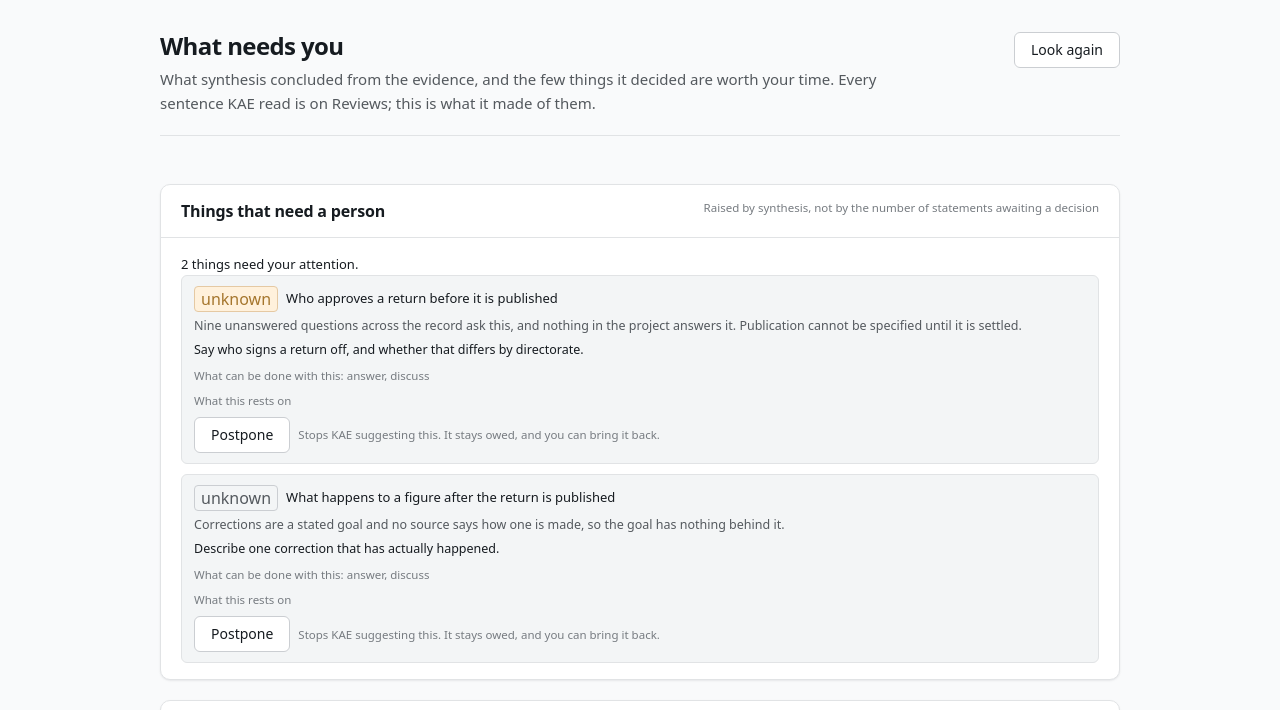
Test: an item can say what it rests on › answers with the sentences KAE read, not with the identifiers of rows
Click the 1st heading "What this rests on". click: (243, 400)
box: [194,393,291,408]
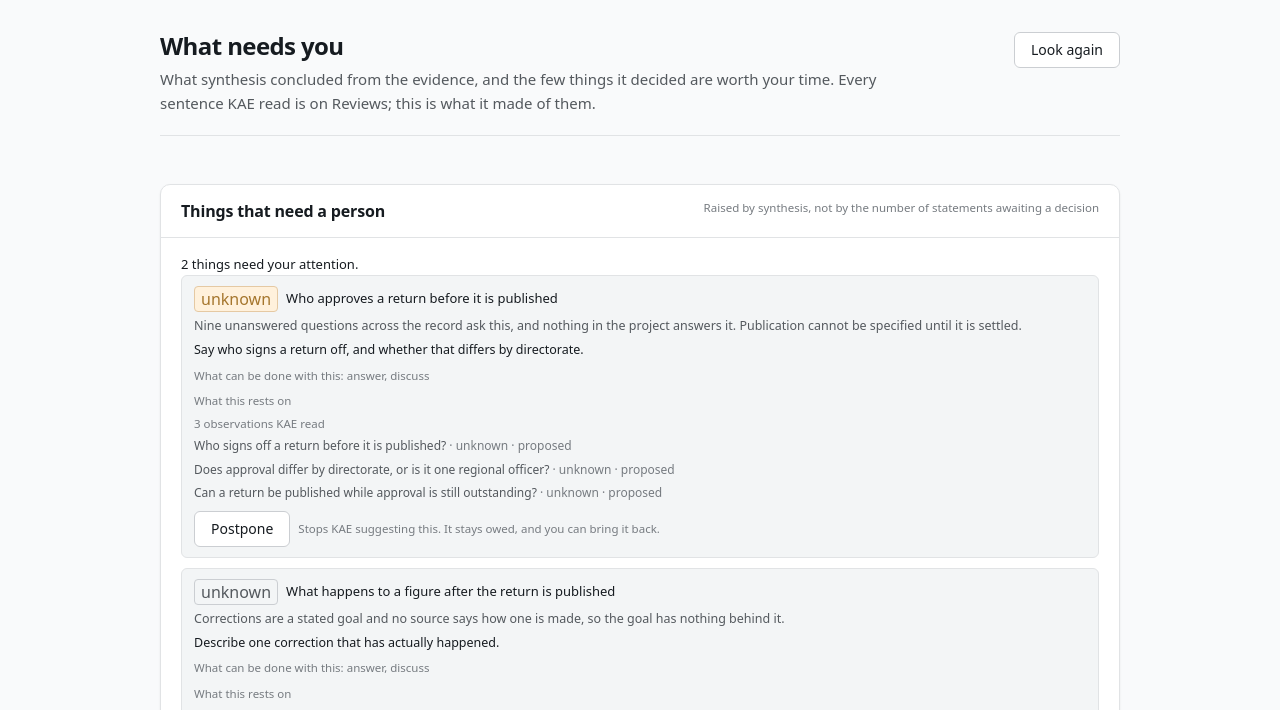
Expected: the list item "Who signs off a return before it is published?" is shown, [194,437,446,454]
